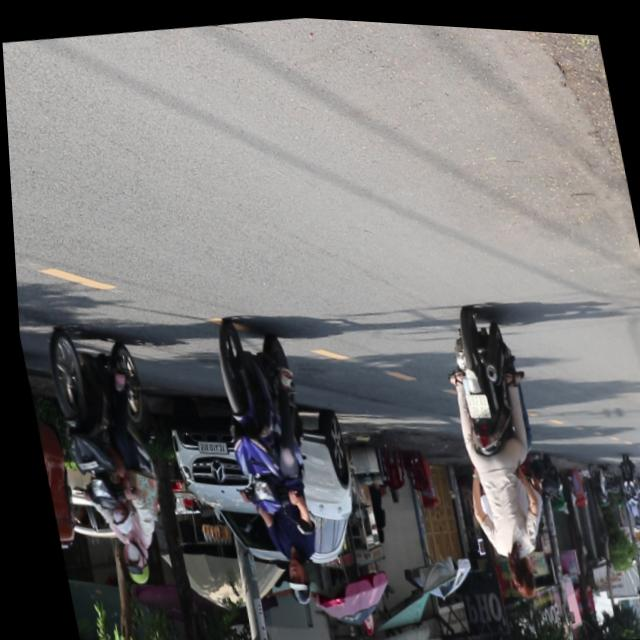helmet: (274, 550, 306, 605), (112, 536, 144, 585)
licenseplate: (197, 309, 333, 613), (426, 296, 561, 601), (33, 315, 178, 596)
motorcyclist: (497, 545, 532, 595)
nohelmet: (460, 388, 485, 415)
